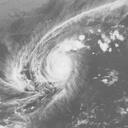cyclone: (16, 16, 83, 95)
